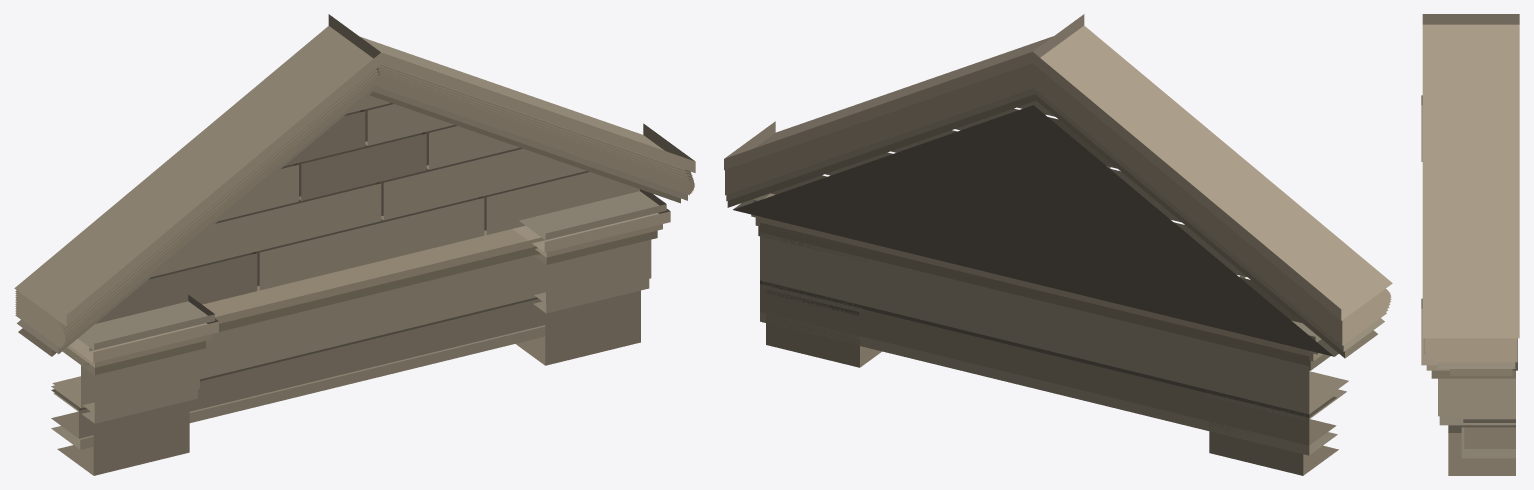
File: huangpu-former-church-apartments-stone-pediment-web.glb
3 views of the same model, side by side, from view 1: azimuth 30°, elevation 25°; view 2: azimuth 150°, elevation 25°; view 3: azimuth 270°, elevation 25° (orthographic). The views are drawn at different scales.
Parts seen in each view (by area): view 1: 原教会公寓南苏州路入口石三角山花; view 2: 原教会公寓南苏州路入口石三角山花; view 3: 原教会公寓南苏州路入口石三角山花.
Part boxes in pixels (x1,y1,x2,y2): 原教会公寓南苏州路入口石三角山花: [14, 14, 695, 475]; 原教会公寓南苏州路入口石三角山花: [724, 14, 1392, 475]; 原教会公寓南苏州路入口石三角山花: [1421, 14, 1519, 475].
Size of the model in its own units: 3.26 by 1.82 by 0.477.
